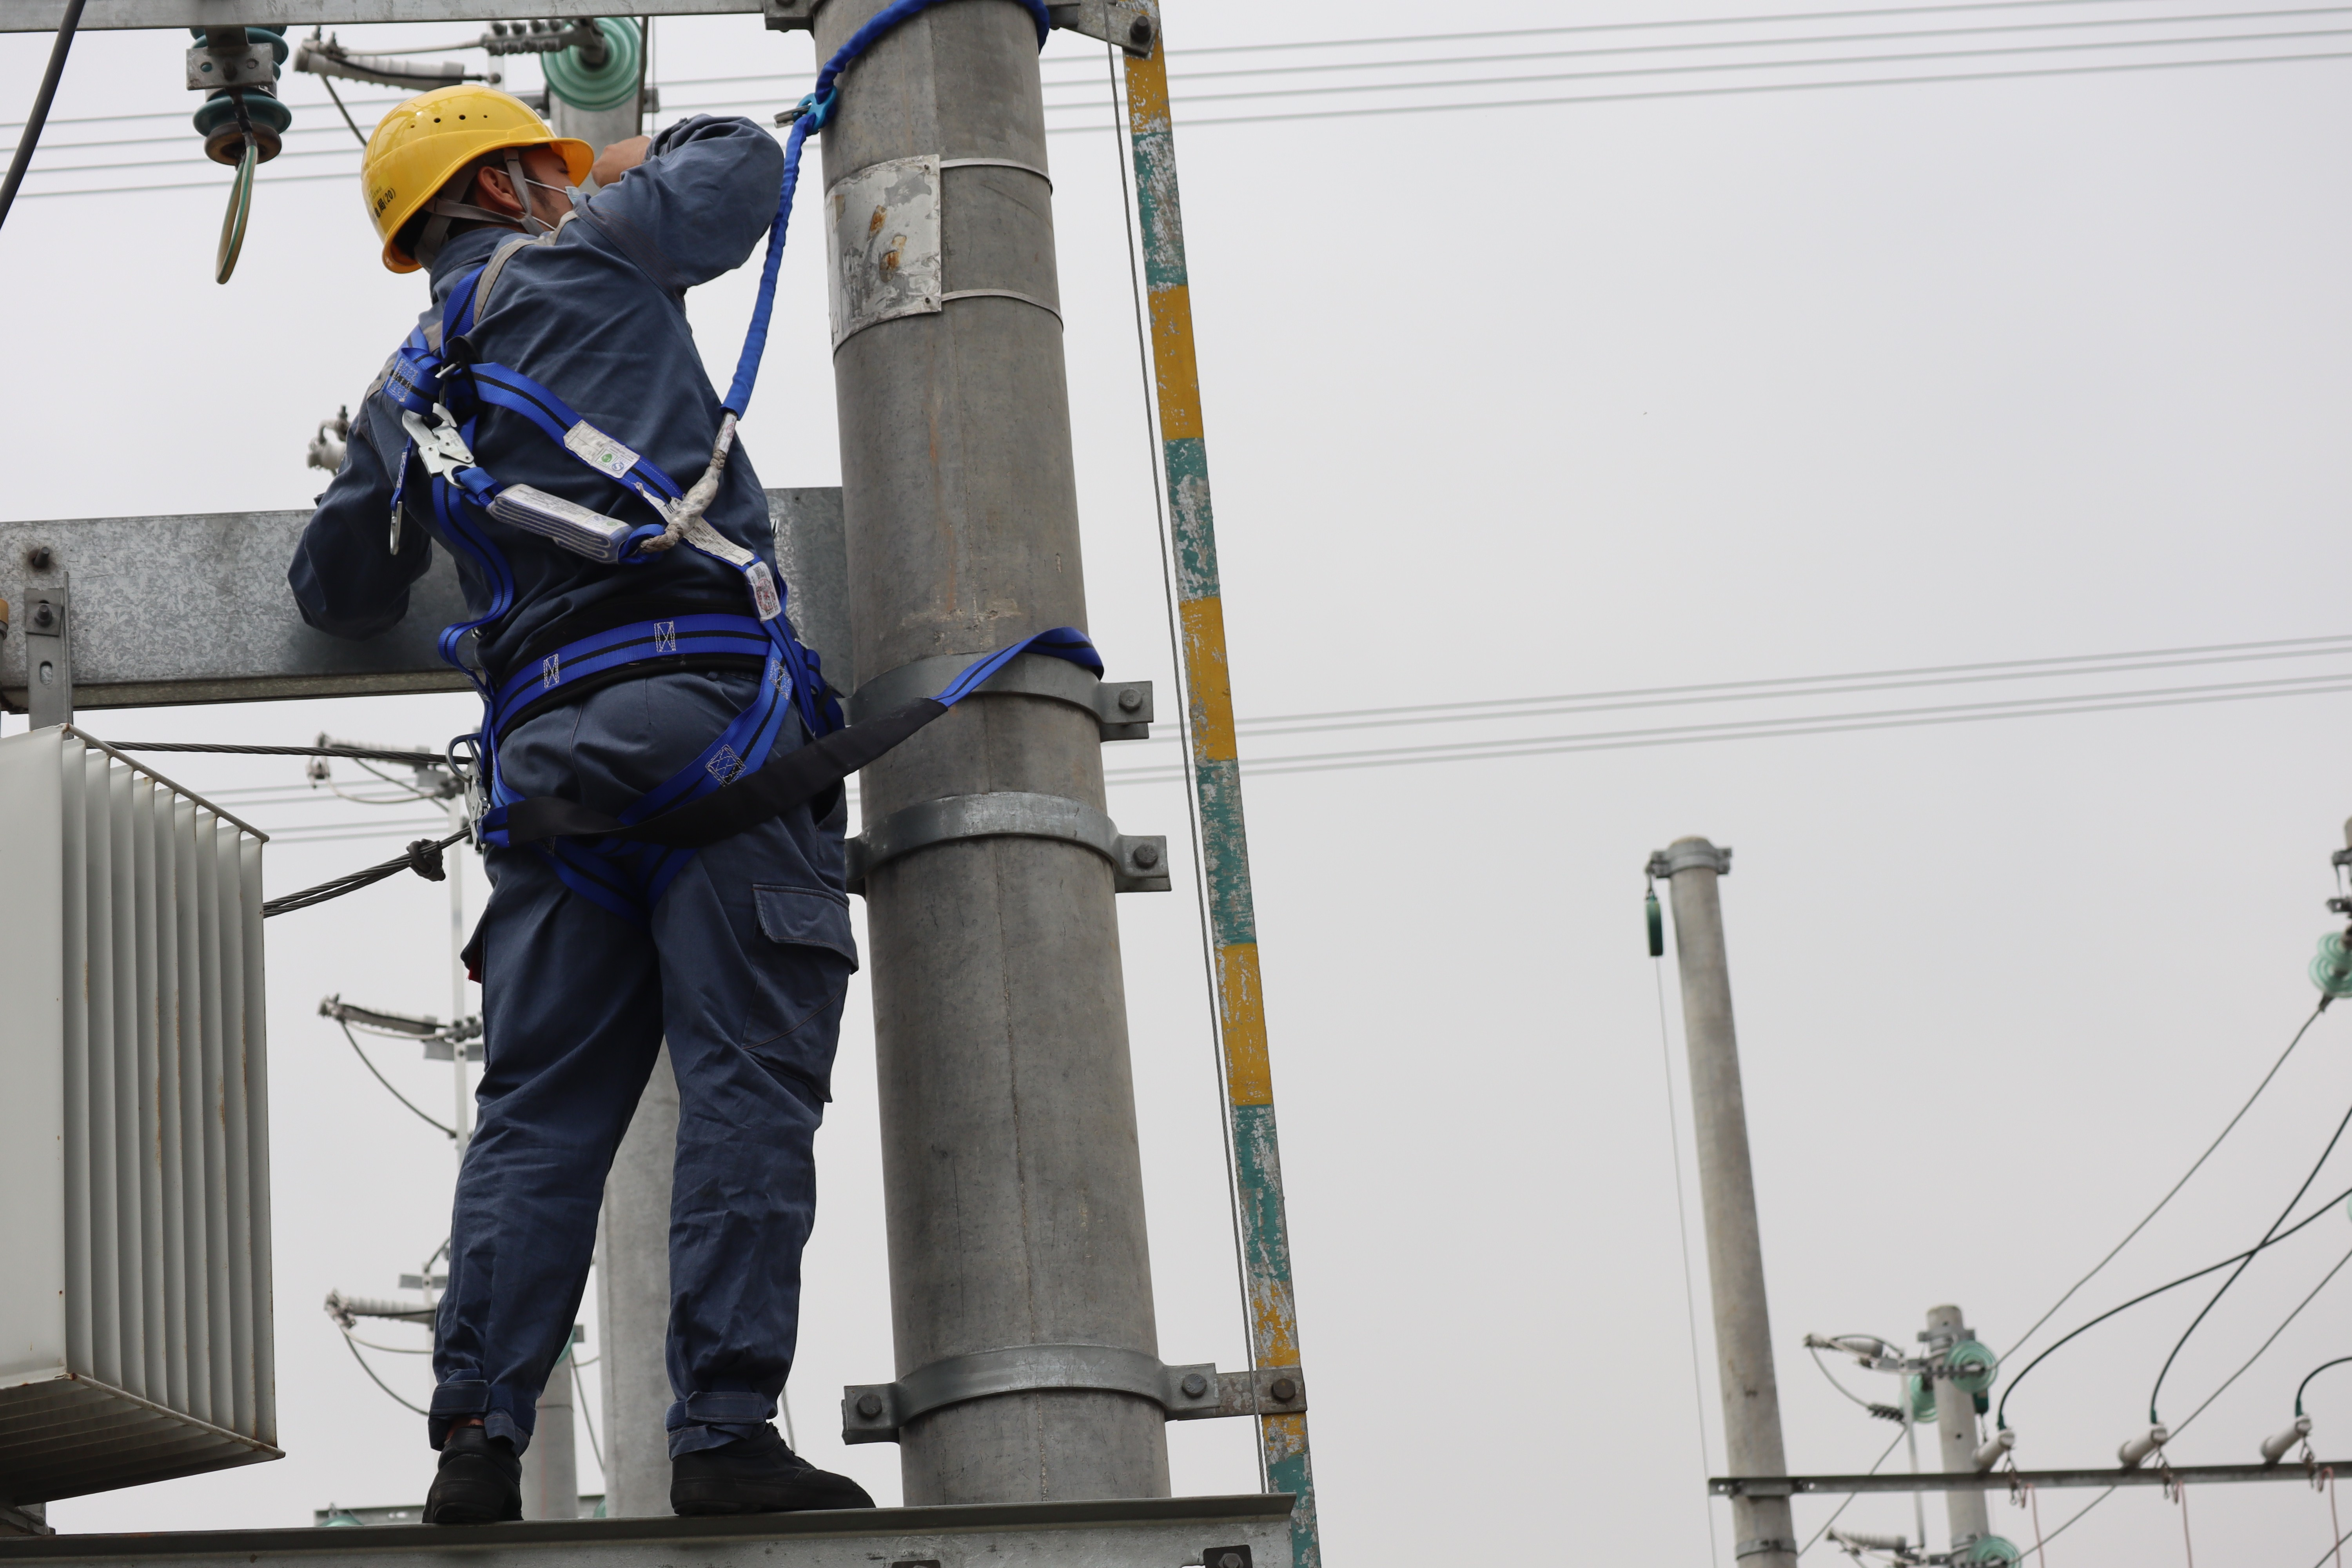downsuit: (424, 672, 843, 1454)
upsuit: (292, 119, 789, 668)
